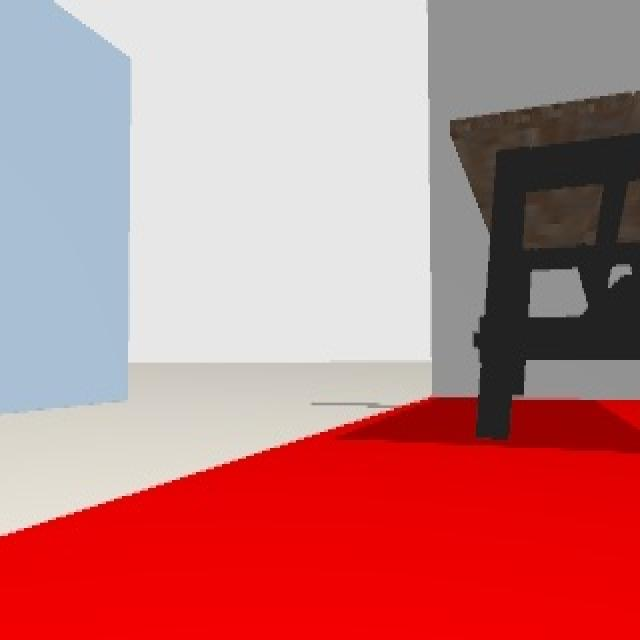dining: (450, 88, 640, 442)
